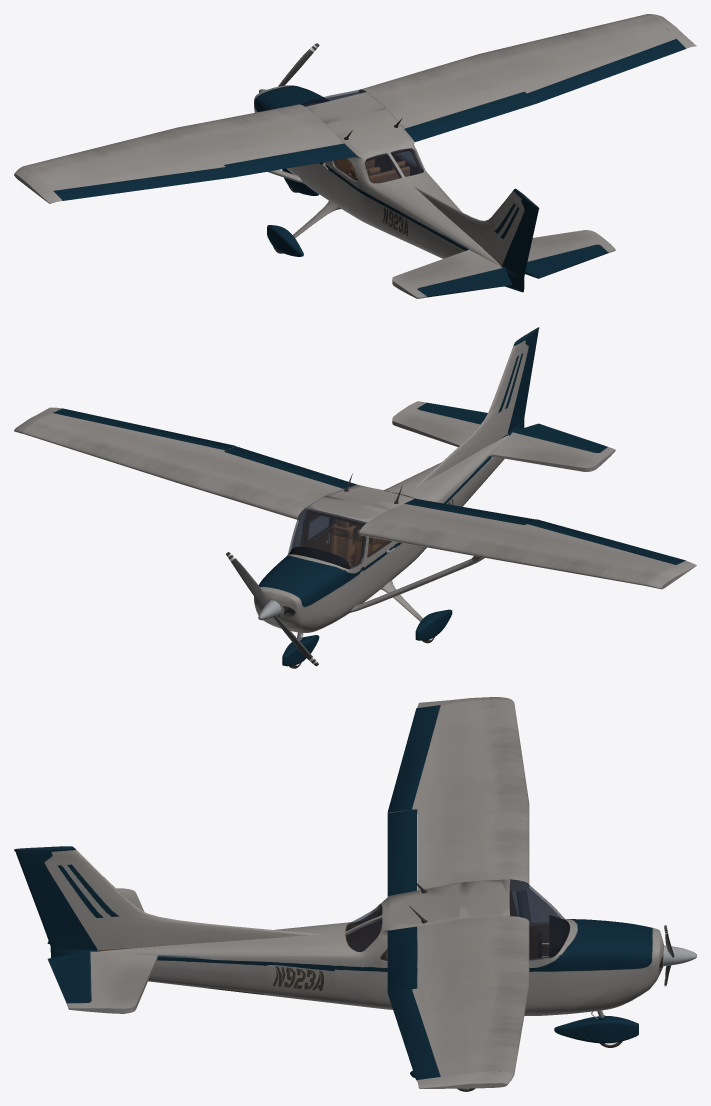
3 views of the same model, one above another, from view 1: azimuth 30°, elevation 25°; view 2: azimuth 150°, elevation 25°; view 3: azimuth 270°, elevation 25° (orthographic). The views are drawn at different scales.
Parts seen in each view (by area): view 1: body, flaps, elevator, aileronRight, aileronLeft, rudder; view 2: body, flaps, elevator, aileronRight, prop, rudder, aileronLeft; view 3: body, flaps, rudder, aileronLeft, aileronRight, elevator, prop.
Boxes of the visible parts, <box> form: body: <box>14,14,696,298</box>; flaps: <box>224,91,536,176</box>; elevator: <box>417,244,608,297</box>; aileronRight: <box>527,39,686,103</box>; aileronLeft: <box>53,167,235,200</box>; rudder: <box>501,188,539,292</box>; body: <box>14,340,696,666</box>; flaps: <box>224,446,535,524</box>; elevator: <box>417,402,607,452</box>; aileronRight: <box>53,408,235,450</box>; prop: <box>226,552,318,666</box>; rudder: <box>501,327,539,438</box>; aileronLeft: <box>527,519,685,564</box>; body: <box>44,697,663,1088</box>; flaps: <box>387,809,416,991</box>; rudder: <box>14,846,97,957</box>; aileronLeft: <box>387,705,440,812</box>; aileronRight: <box>387,989,440,1080</box>; elevator: <box>47,941,91,1003</box>; prop: <box>663,925,696,986</box>.
Bounding box in the file's own units: 11 × 2.67 × 8.23.
5 materials, 4 textured.
